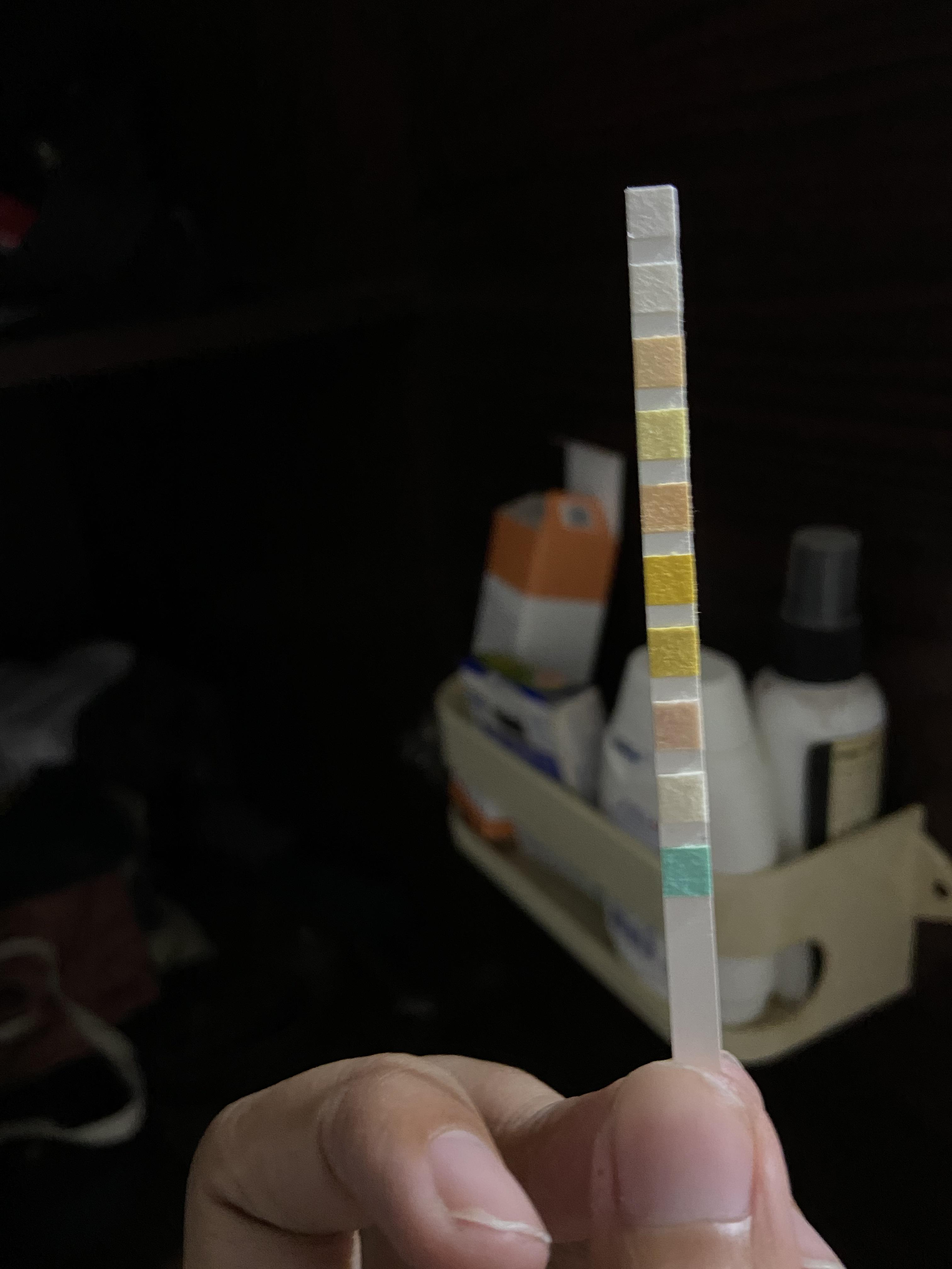Bilirubin: (659, 775, 706, 821)
Blood: (645, 558, 692, 603)
Glucose: (663, 849, 709, 893)
Ketone: (653, 702, 700, 748)
Leukocytes: (628, 192, 673, 237)
Nitrite: (631, 265, 678, 311)
Protein: (638, 412, 683, 457)
SpGravity: (649, 628, 697, 675)
Urobilinogen: (634, 339, 681, 385)
pH: (642, 486, 688, 531)
strip: (626, 186, 722, 1059)
